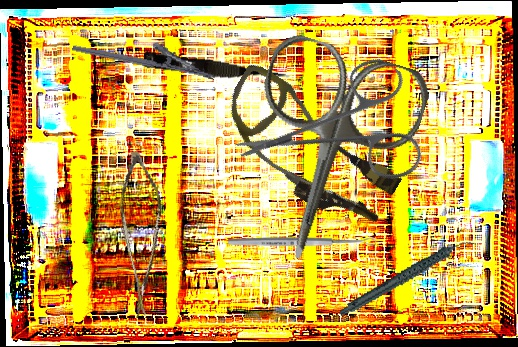Cannula: (203, 60, 415, 239)
Handpiece: (329, 237, 485, 317)
Iris Scissors: (218, 29, 435, 281), (231, 17, 456, 240)
Micro Scissor: (99, 148, 187, 322), (142, 51, 291, 88)
Needle Holder: (71, 25, 220, 82)
Surgical Spoon: (228, 237, 376, 247)
